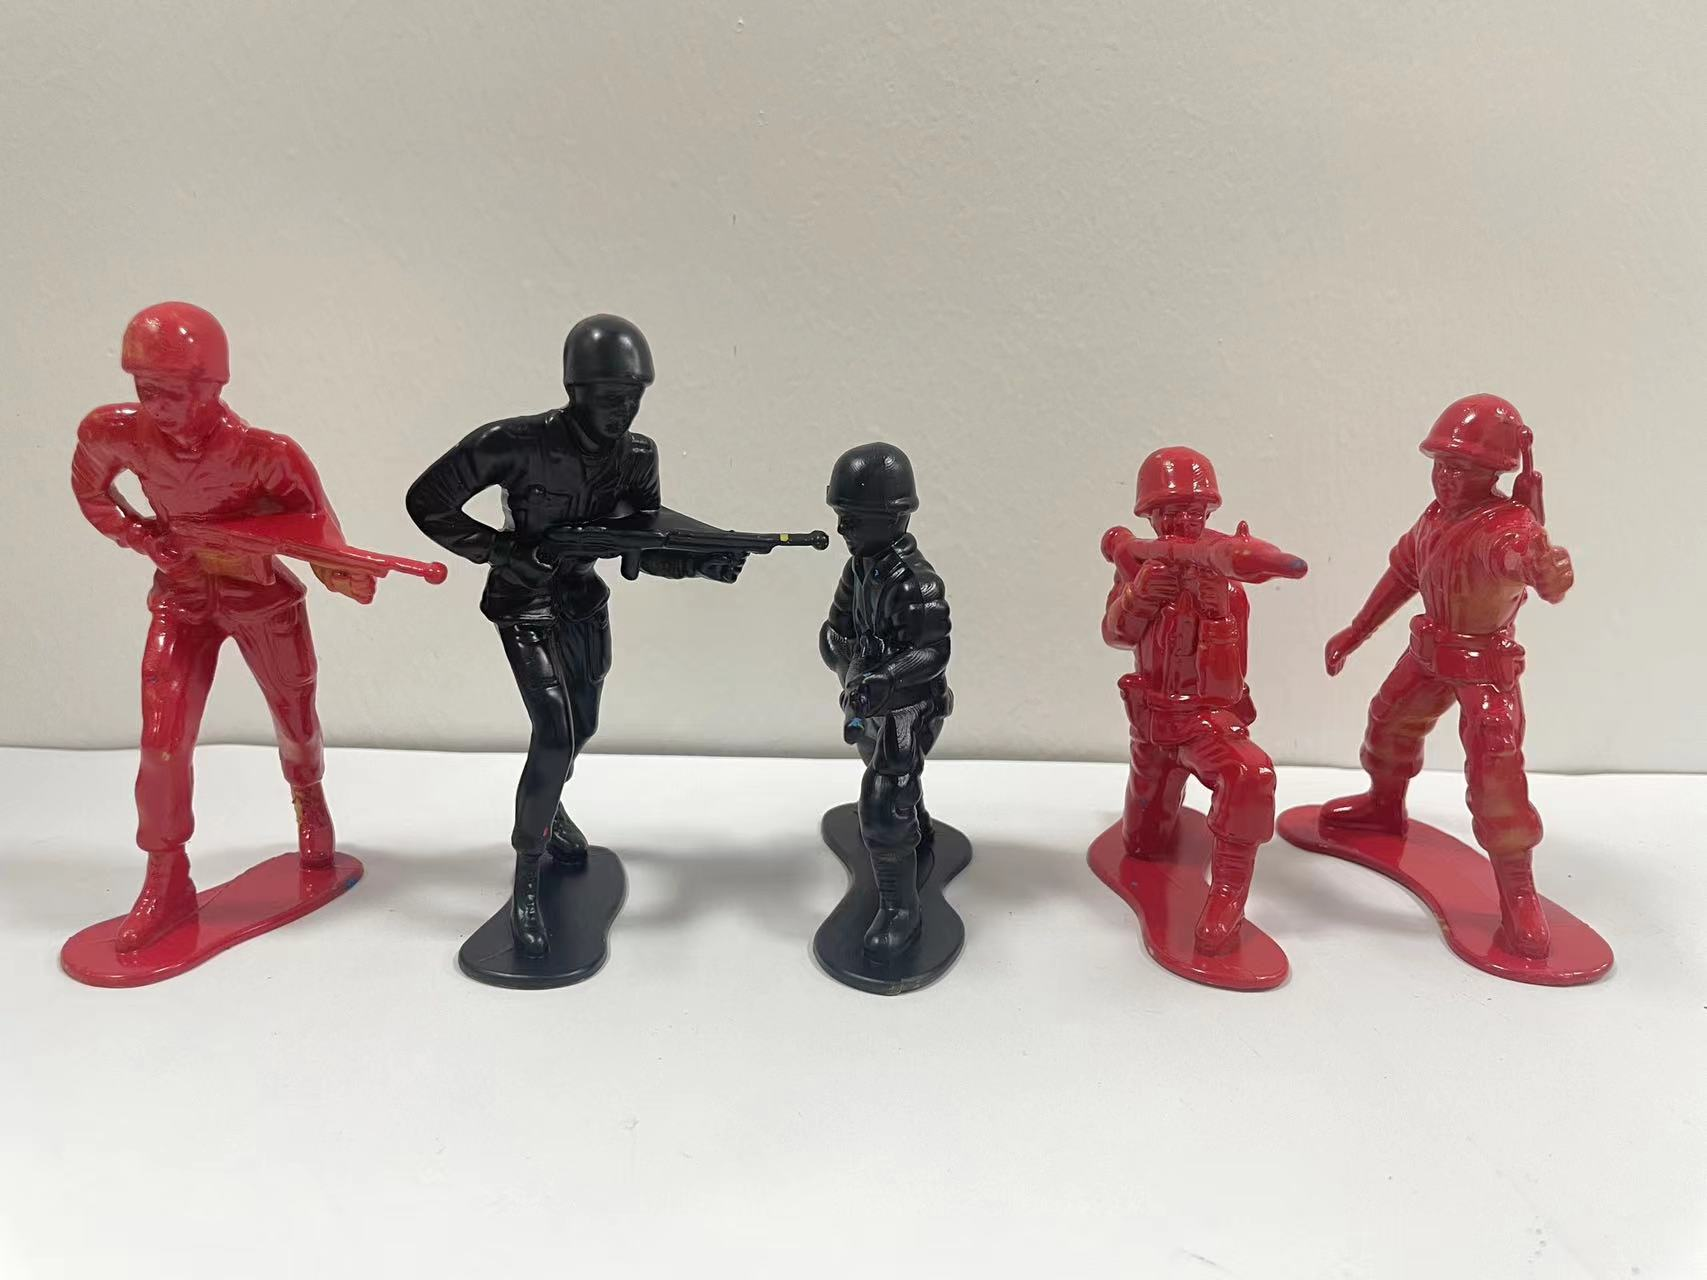black: (403, 286, 798, 1014), (793, 421, 1026, 1035)
red: (13, 280, 435, 1008), (1305, 343, 1647, 1021), (1052, 415, 1332, 1038)
